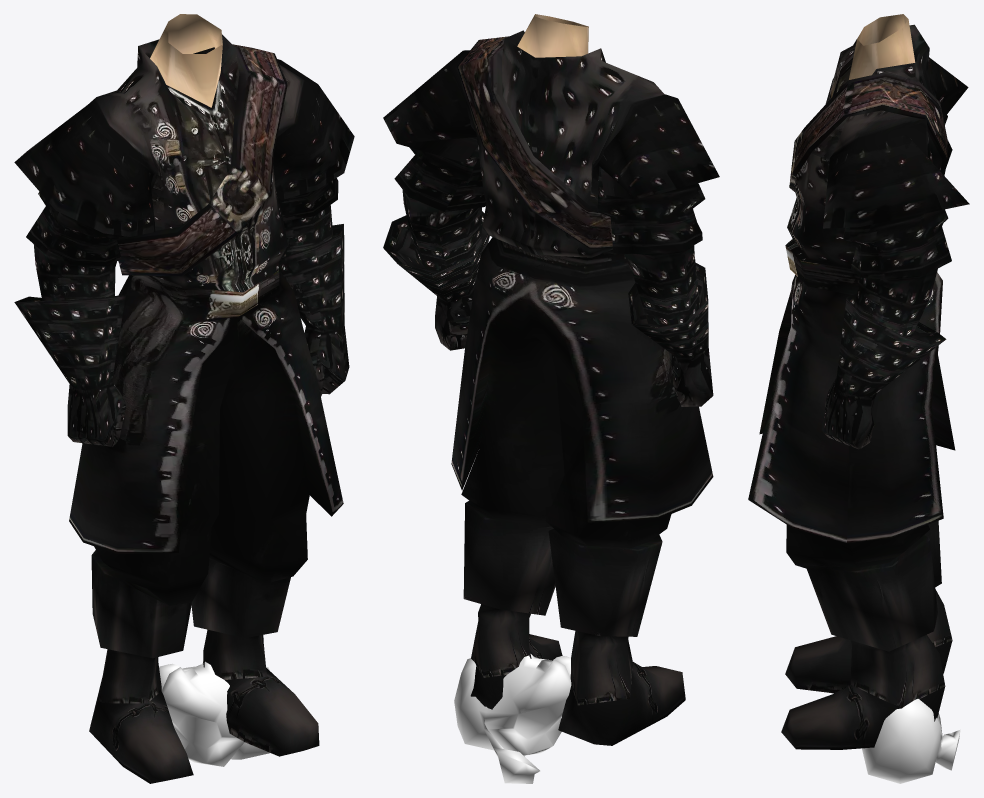
The model's file is ARMOR_PIR_H_ADDON_NOHAT.glb.
3 views of the same model, side by side, from view 1: azimuth 30°, elevation 25°; view 2: azimuth 150°, elevation 25°; view 3: azimuth 270°, elevation 25° (orthographic). The views are drawn at different scales.
Visible parts, largest first — view 1: ARMOR_PIR_H_ADDON_NOHAT; view 2: ARMOR_PIR_H_ADDON_NOHAT; view 3: ARMOR_PIR_H_ADDON_NOHAT.
Part boxes in pixels (x1=…): ARMOR_PIR_H_ADDON_NOHAT: x1=14, y1=14, x2=354, y2=783; ARMOR_PIR_H_ADDON_NOHAT: x1=383, y1=14, x2=719, y2=783; ARMOR_PIR_H_ADDON_NOHAT: x1=748, y1=14, x2=969, y2=783.
Bounding box in the file's own units: 0.7938 × 1.81 × 0.4878.
3 materials, 2 textured.
